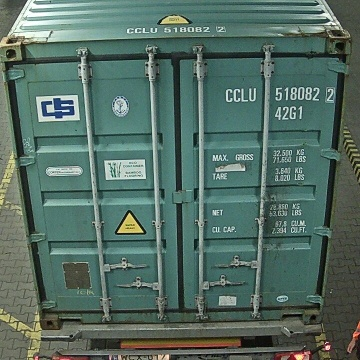serial_id: (226, 86, 334, 101)
